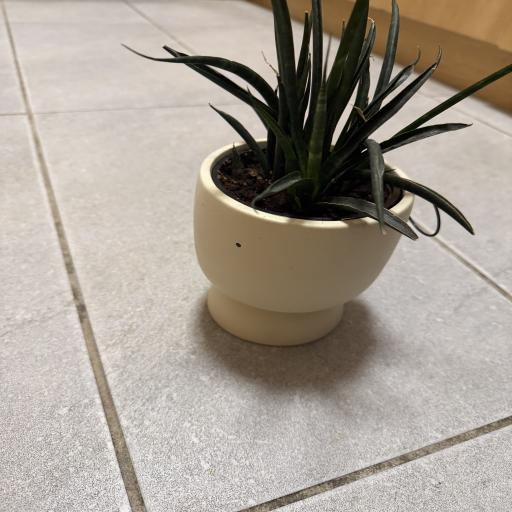Plant Pot: (167, 136, 421, 341)
